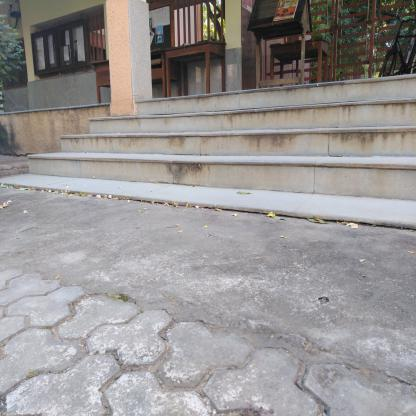stairs: (139, 99, 416, 199)
